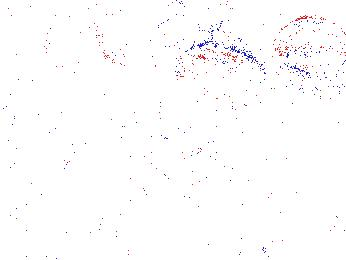moon jellyfish: (183, 44, 266, 114), (94, 1, 181, 67), (136, 119, 206, 193), (273, 16, 346, 74)
